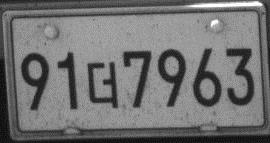1: (50, 50, 85, 112)
3: (224, 46, 256, 106)
6: (191, 46, 222, 106)
7: (120, 49, 153, 109)
9: (156, 46, 187, 108), (19, 52, 50, 112)
더: (87, 60, 119, 108)
